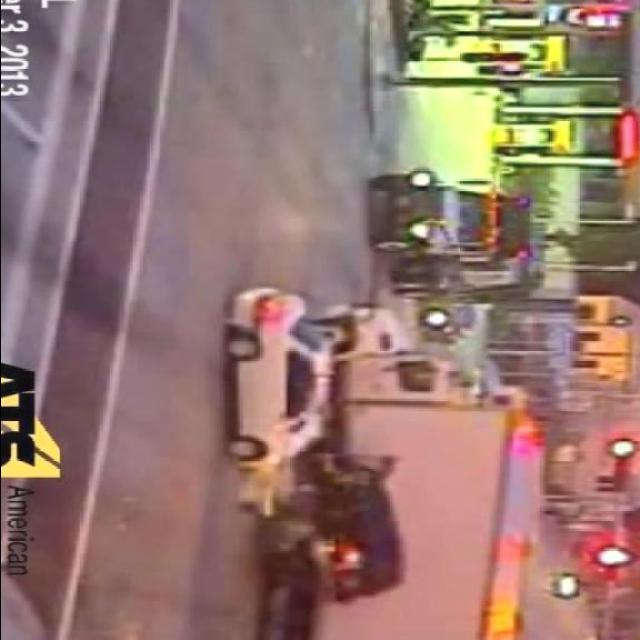accident: (266, 302, 552, 640)
